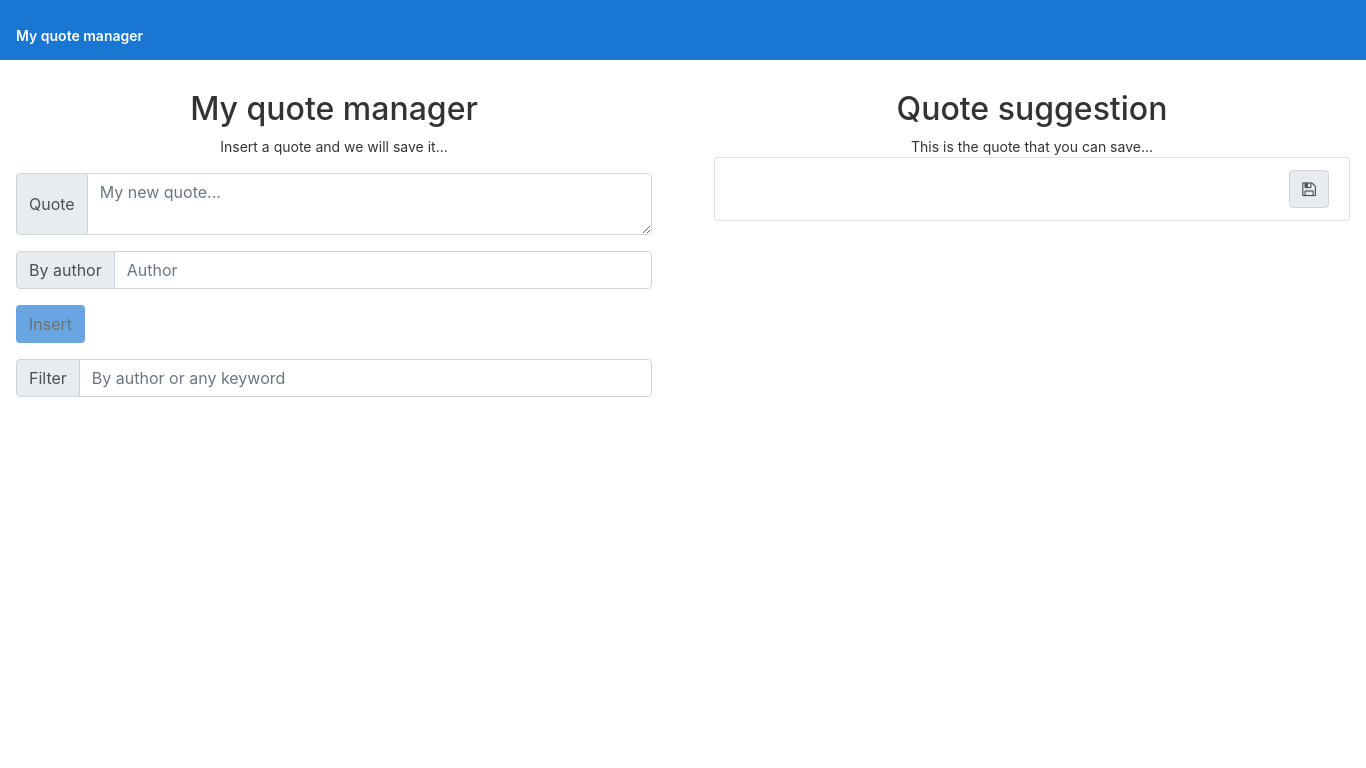
Maps › Shoud display newer quotes first
In the text box with id "new-quote": (370, 204) [87,173,652,235], type "my test quote"
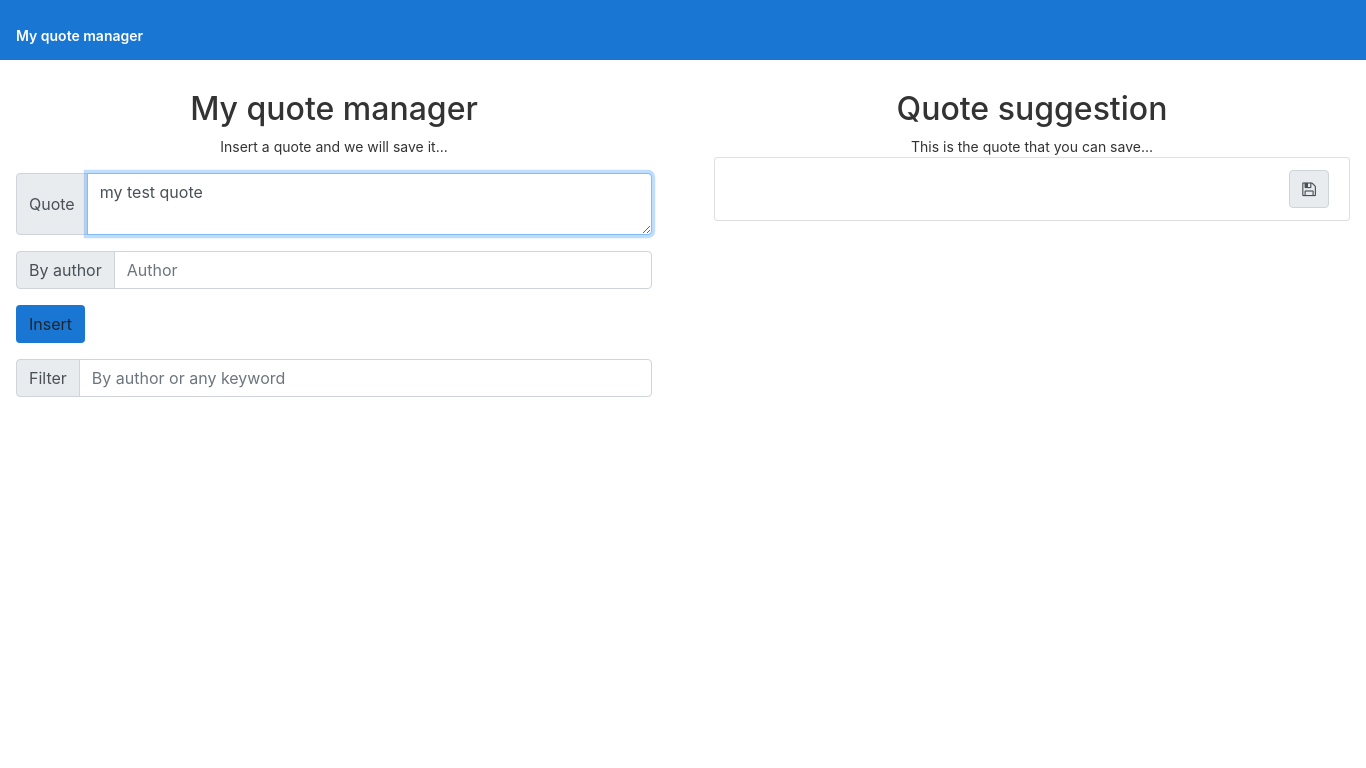
In the field with placeholder "Author": (383, 270) [114,251,652,289], type "my test author"
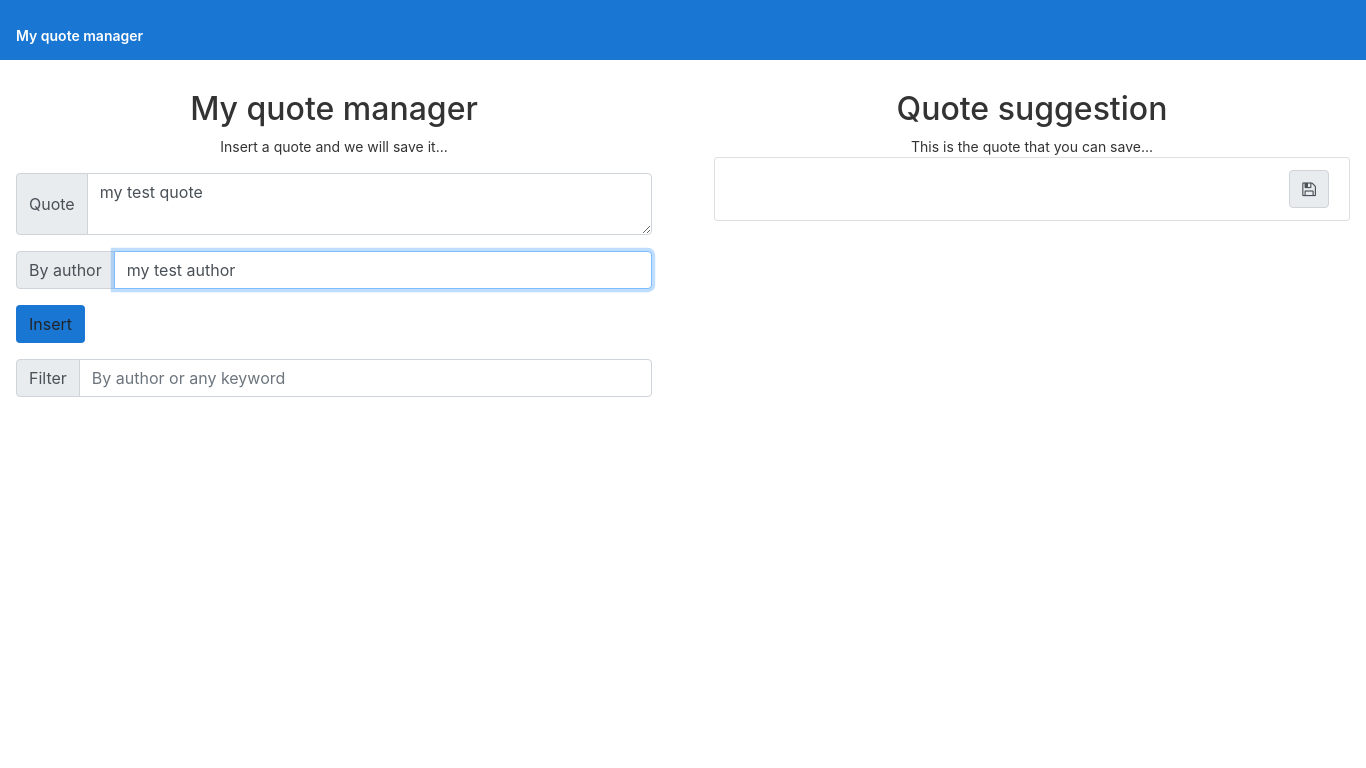
Click the button with id "evaluate-quote": (51, 324) [16,305,85,343]
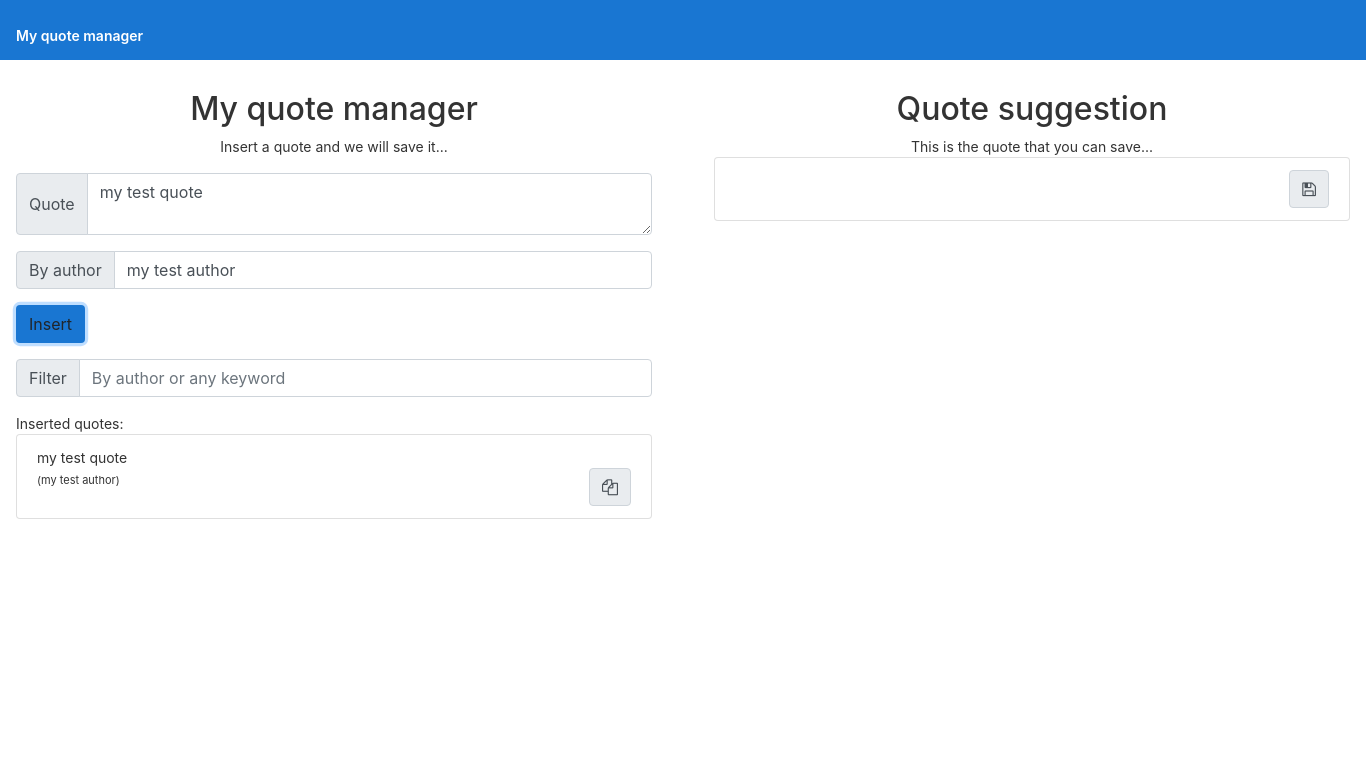
Replace the text in the text box with id "new-quote" with "my new test quote": (370, 204) [87,173,652,235]
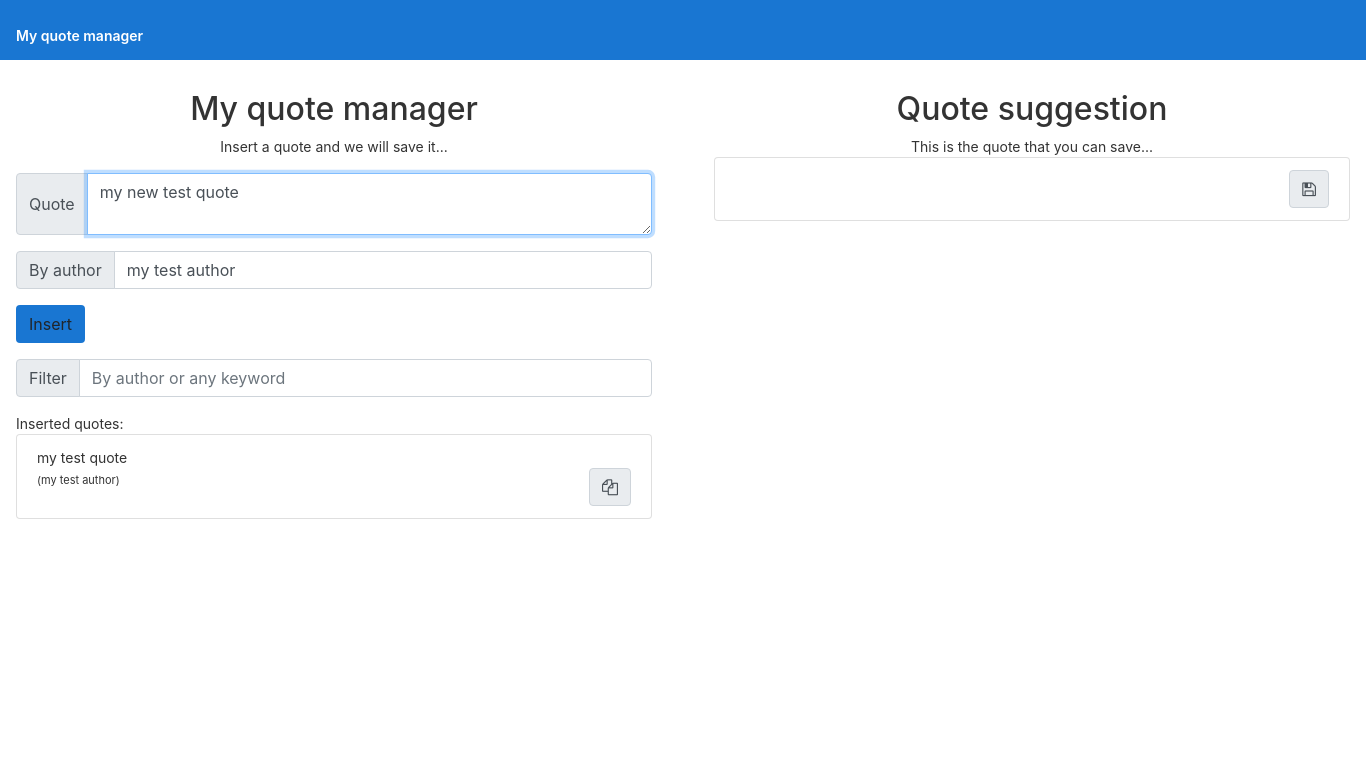
Expected: the text box with id "new-quote" holds "my new test quote", [87,173,652,235]
Replace the text in the field named "Author" with "my new test author": (383, 270) [114,251,652,289]
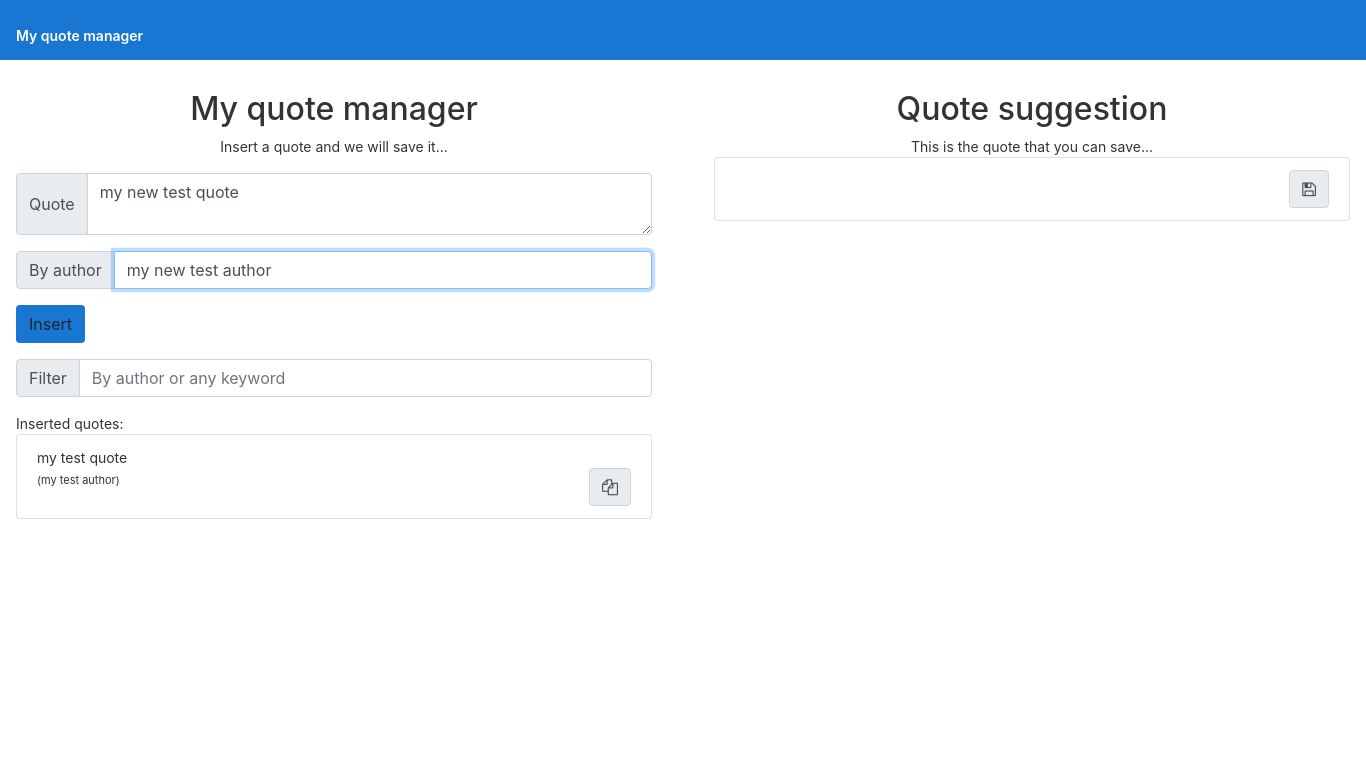
Expected: the field named "Author" holds "my new test author", [114,251,652,289]
Click the button with id "evaluate-quote": (51, 324) [16,305,85,343]
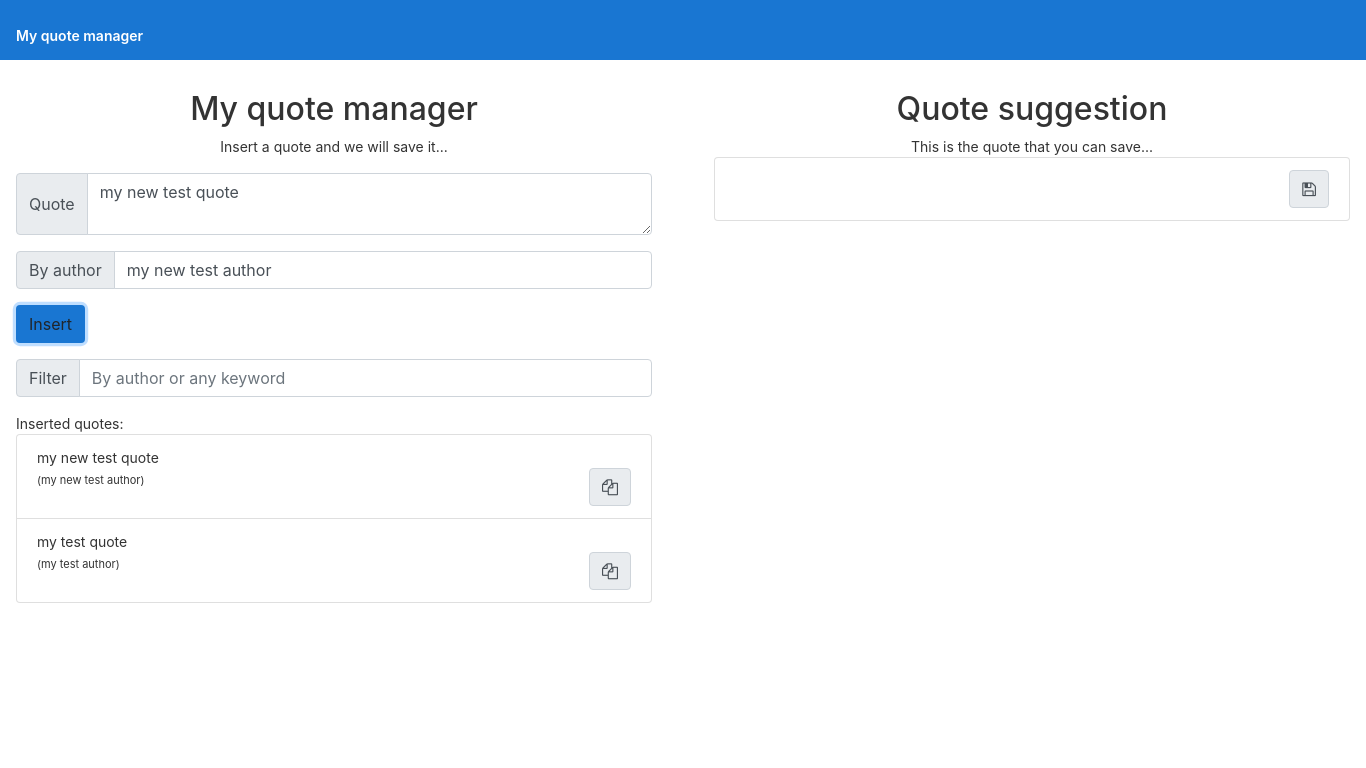
Expected: the text "my new test quote" is shown, [37,449,159,466]
